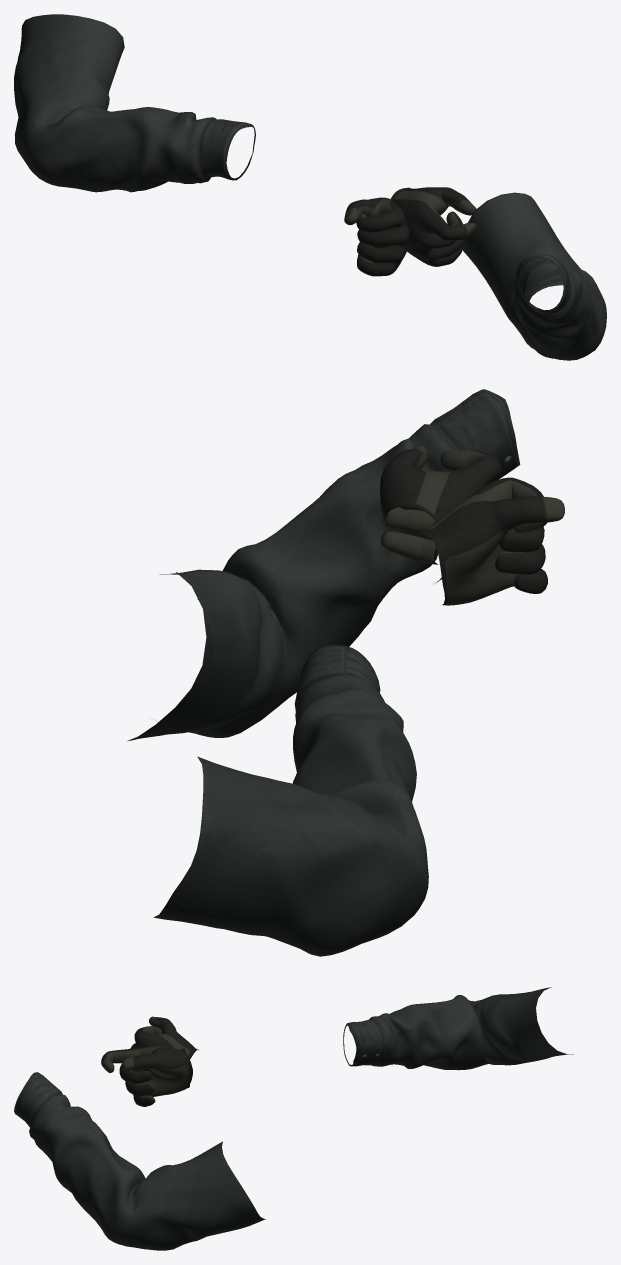
File: first_person_arms.glb
The picture shows the model from 3 angles, top to bottom: view 1: azimuth 30°, elevation 25°; view 2: azimuth 150°, elevation 25°; view 3: azimuth 270°, elevation 25°; orthographic projection. The views are drawn at different scales.
Parts seen in each view (by area): view 1: RightArmMesh, LeftArmMesh; view 2: RightArmMesh, LeftArmMesh; view 3: LeftArmMesh, RightArmMesh.
Boxes of the visible parts, x1=… form: RightArmMesh: x1=14, y1=14, x2=409, y2=276; LeftArmMesh: x1=390, y1=187, x2=606, y2=360; RightArmMesh: x1=153, y1=477, x2=564, y2=956; LeftArmMesh: x1=127, y1=389, x2=520, y2=740; LeftArmMesh: x1=14, y1=1046, x2=265, y2=1250; RightArmMesh: x1=130, y1=987, x2=573, y2=1070.
Bounding box in the file's own units: 1 × 0.5542 × 1.74.
Materials: 1 (1 with a texture image).
